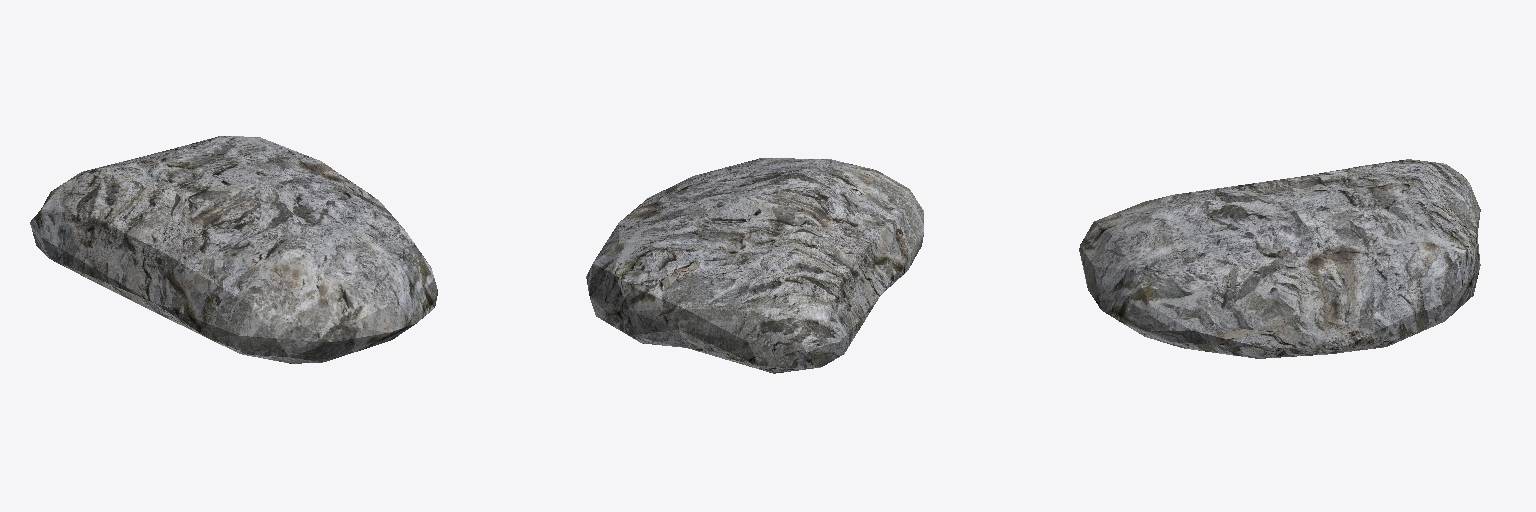
3 renders of one model, left to right at view 1: azimuth 30°, elevation 25°; view 2: azimuth 150°, elevation 25°; view 3: azimuth 270°, elevation 25°, orthographic.
Parts seen in each view (by area): view 1: rocksquare96; view 2: rocksquare96; view 3: rocksquare96.
Boxes of the visible parts, box(x1,y1,x2,y2) form: rocksquare96: box(30, 136, 437, 363); rocksquare96: box(586, 158, 923, 373); rocksquare96: box(1079, 159, 1480, 358).
Bounding box in the file's own units: 2.92 × 1.22 × 3.52.
Materials: 1 (1 with a texture image).